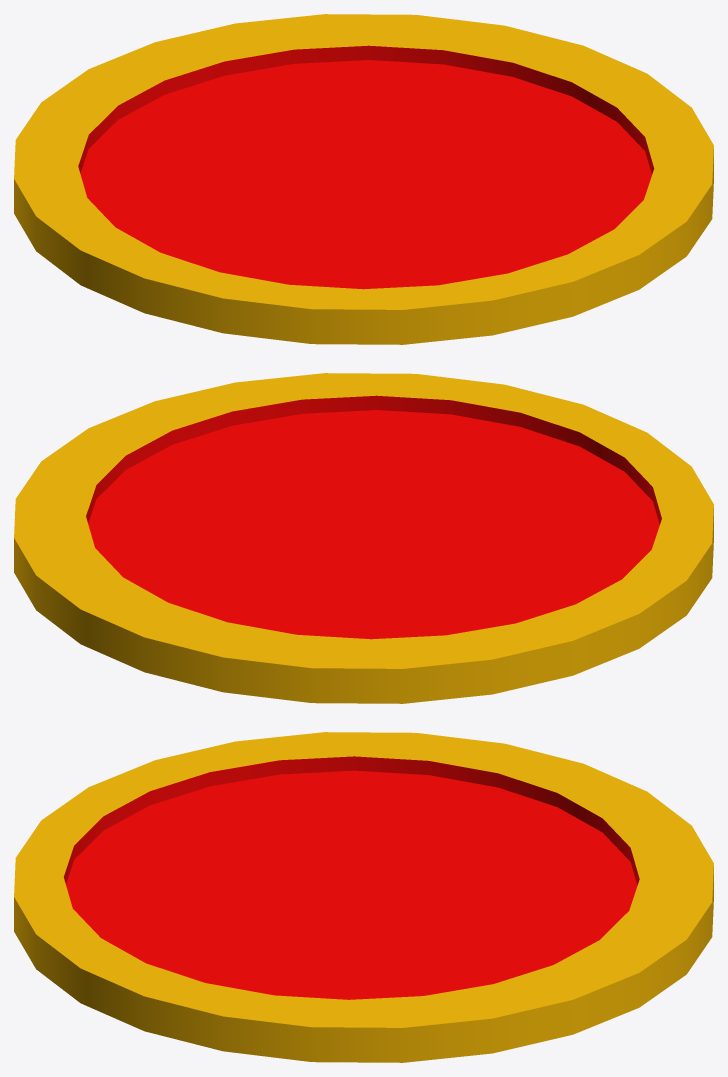
Rendered from amuletoflife.fbx.
3 views of the same model, one above another, from view 1: azimuth 30°, elevation 25°; view 2: azimuth 150°, elevation 25°; view 3: azimuth 270°, elevation 25° (orthographic).
Visible parts, largest first — view 1: Amulet; view 2: Amulet; view 3: Amulet.
Boxes of the visible parts, box(x1,y1,x2,y2) form: Amulet: box(14, 14, 713, 344); Amulet: box(14, 373, 713, 703); Amulet: box(14, 732, 713, 1062).
Bounding box in the file's own units: 48.32 × 2.66 × 48.32.
